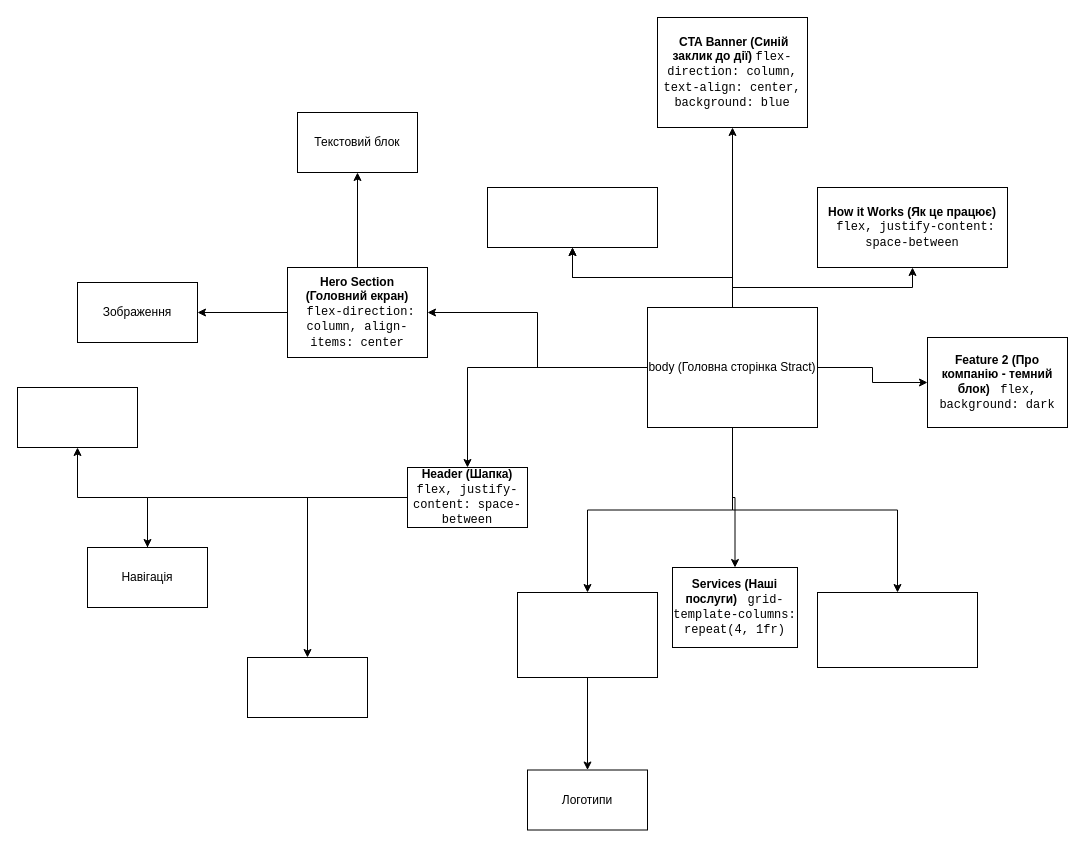
Image size: 1085x848. Some labels were removed from this diagram. The shapes that lost their labels are listed below. From the top down, each one's centre as x and y in pixels, then its label:
At pixel 572 217: "Footer grid-template-columns: 2fr 1fr 1fr 2fr".
At pixel 77 417: "Логотип".
At pixel 587 635: "Partners (Партнери) flex-direction: column, align-items: center".
At pixel 897 630: "Feature 1 (Дані та Аналітика - світлий блок) flex, align-items: center".
At pixel 307 687: "Кнопка".
